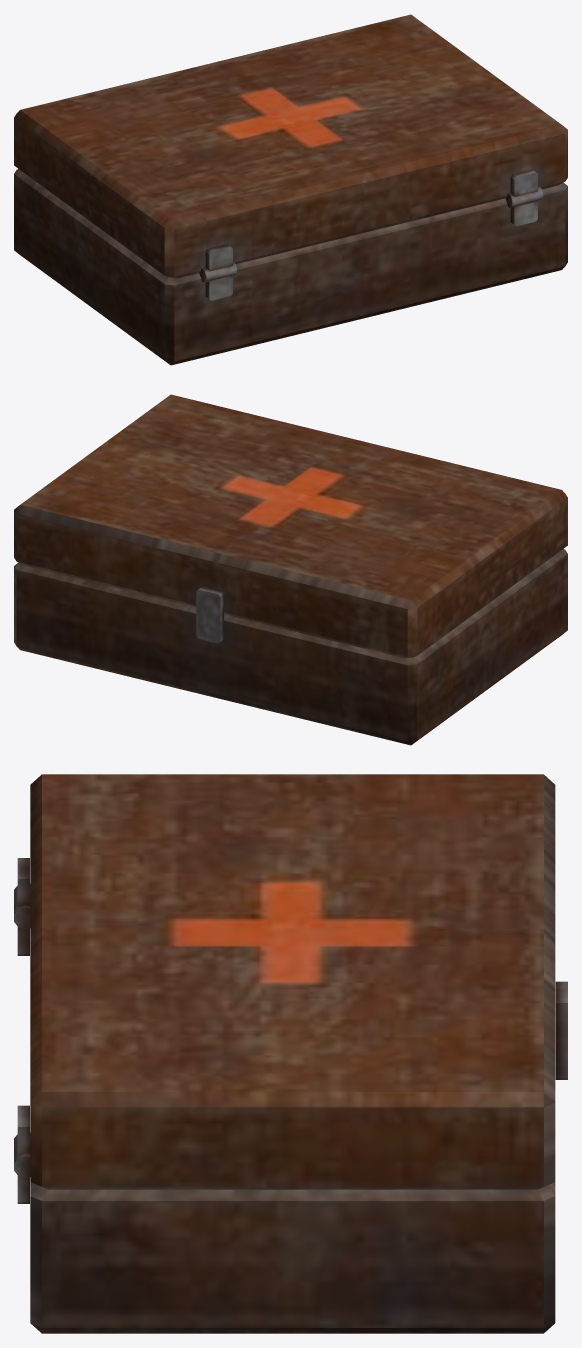
3 renders of one model, top to bottom at view 1: azimuth 30°, elevation 25°; view 2: azimuth 150°, elevation 25°; view 3: azimuth 270°, elevation 25°, orthographic. The views are drawn at different scales.
Parts seen in each view (by area): view 1: healthbox; view 2: healthbox; view 3: healthbox.
Boxes of the visible parts, x1,y1,x2,y2 form: healthbox: (14,14,567,365); healthbox: (14,394,567,745); healthbox: (14,774,567,1333).
Size of the model in its own units: 0.8716 by 0.3 by 0.6233.
Materials: 1 (1 with a texture image).
